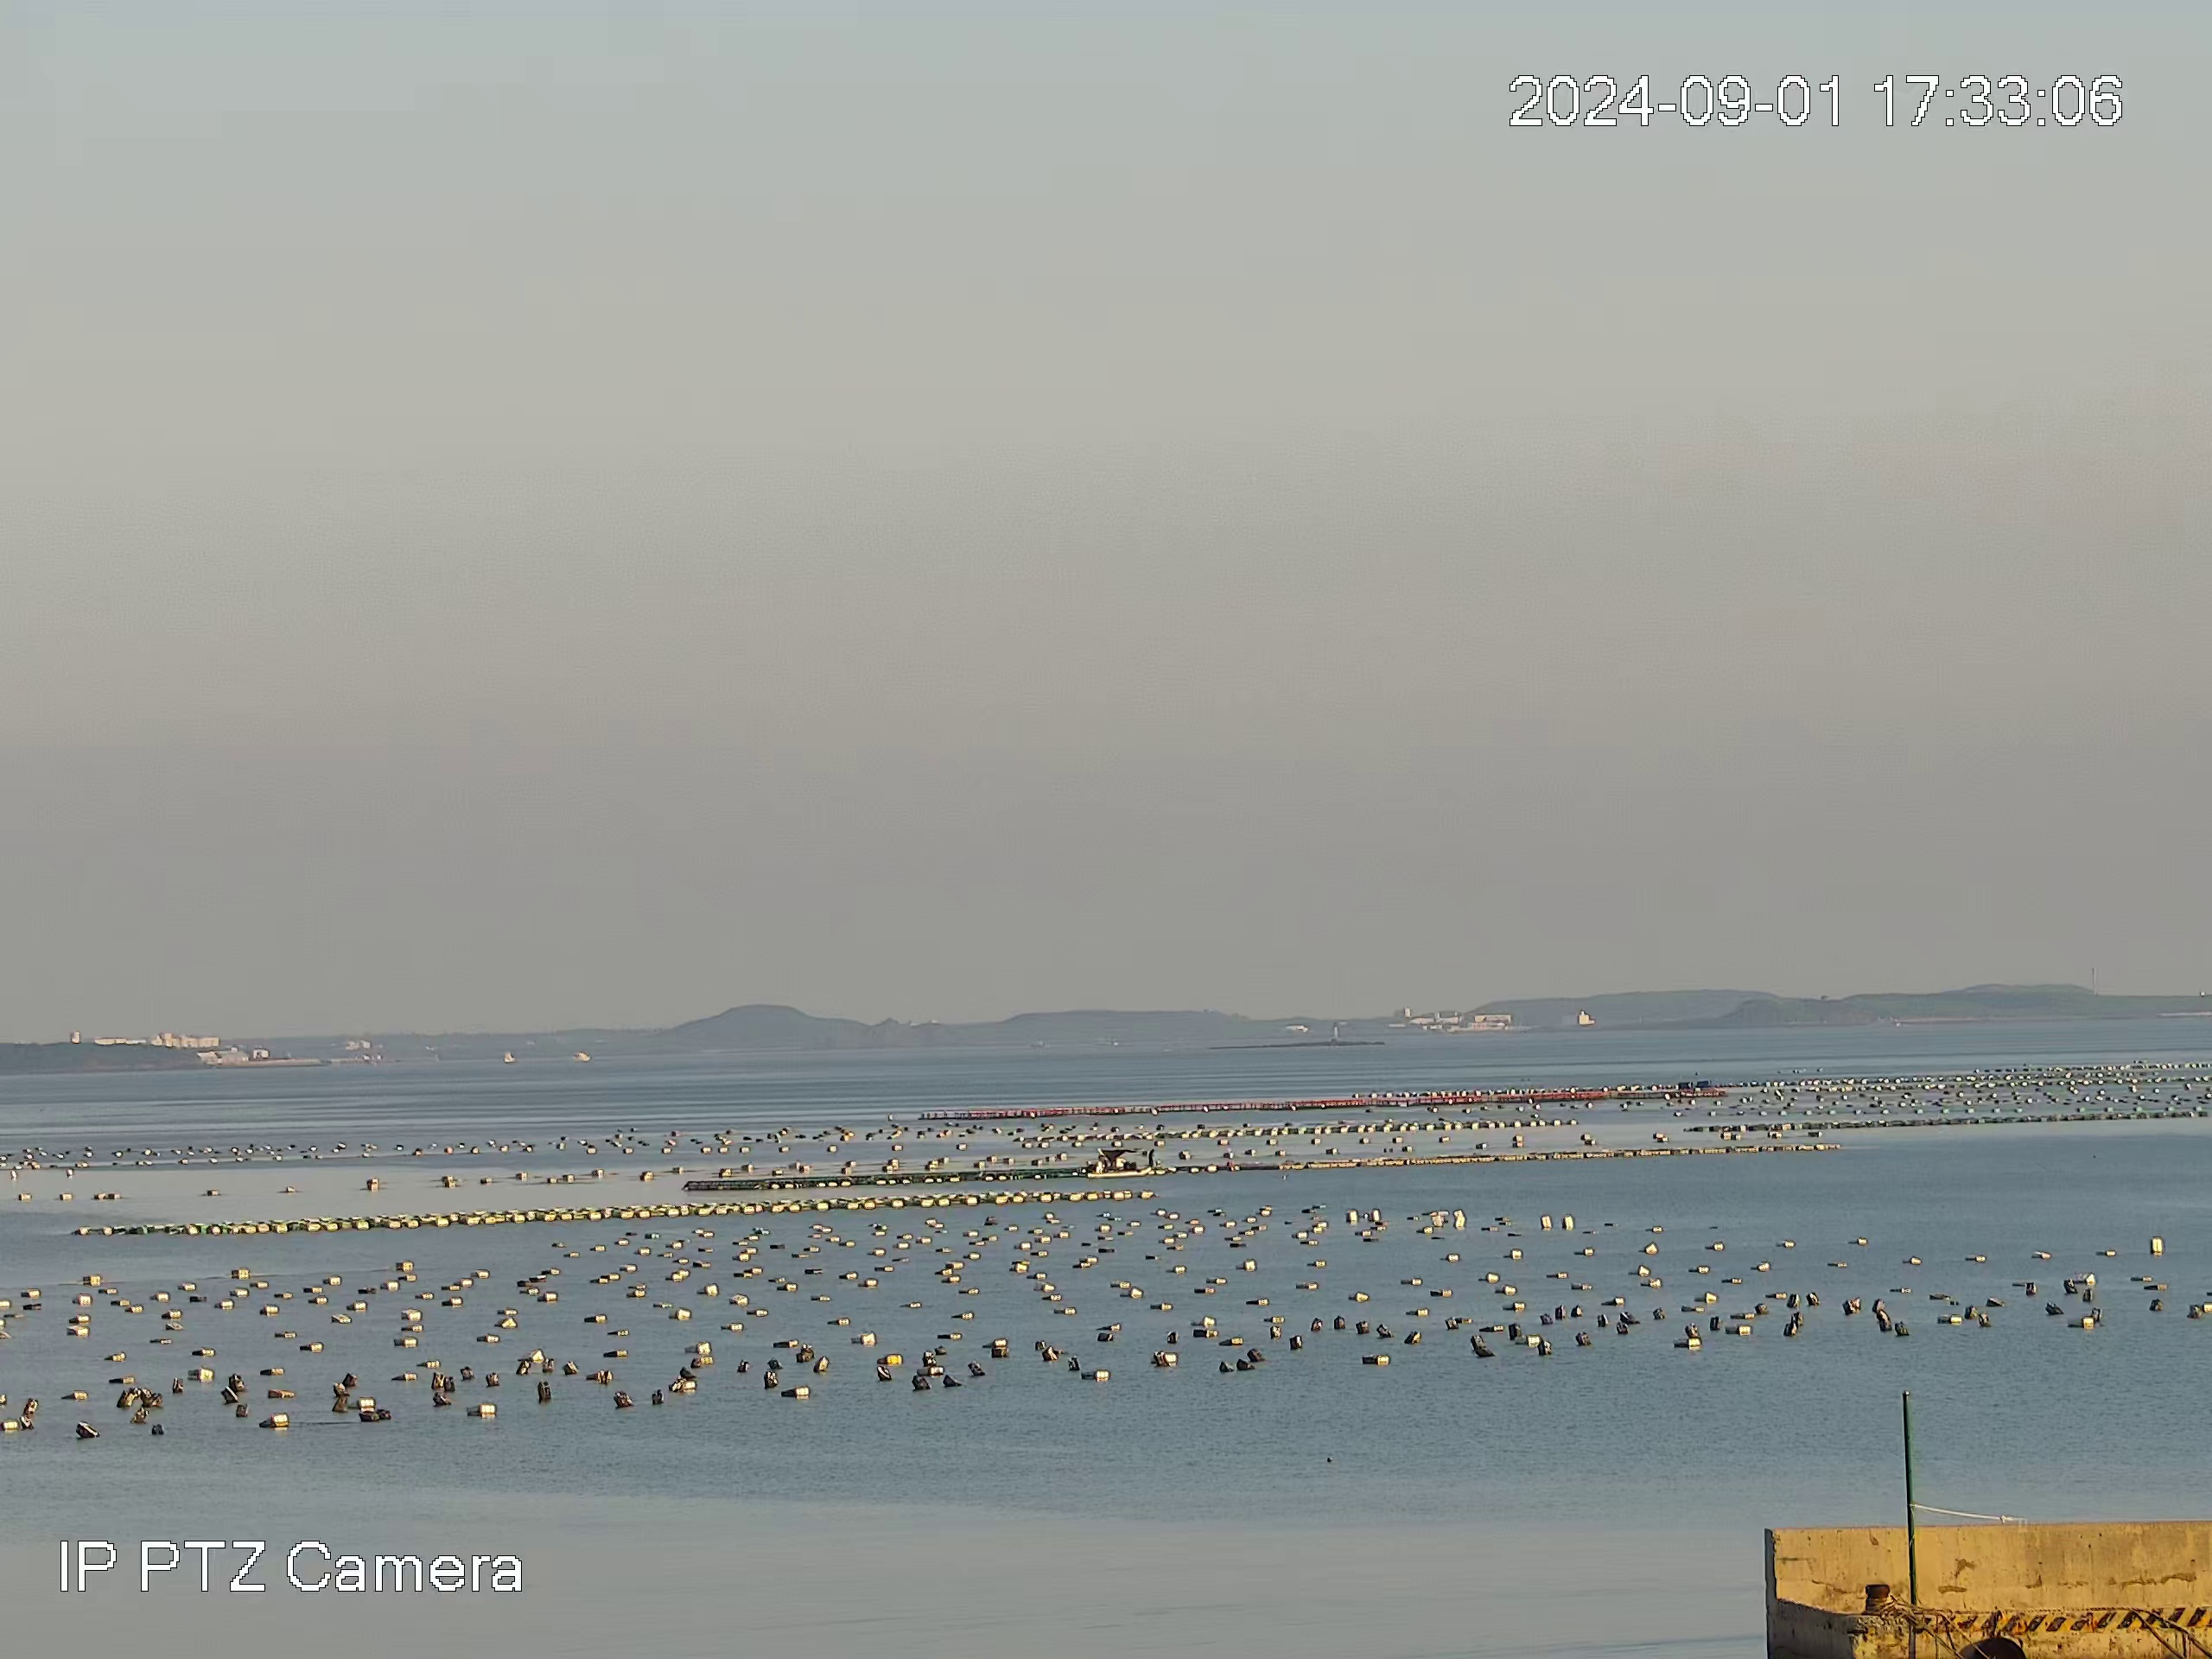boat: (1087, 1145, 1153, 1180)
